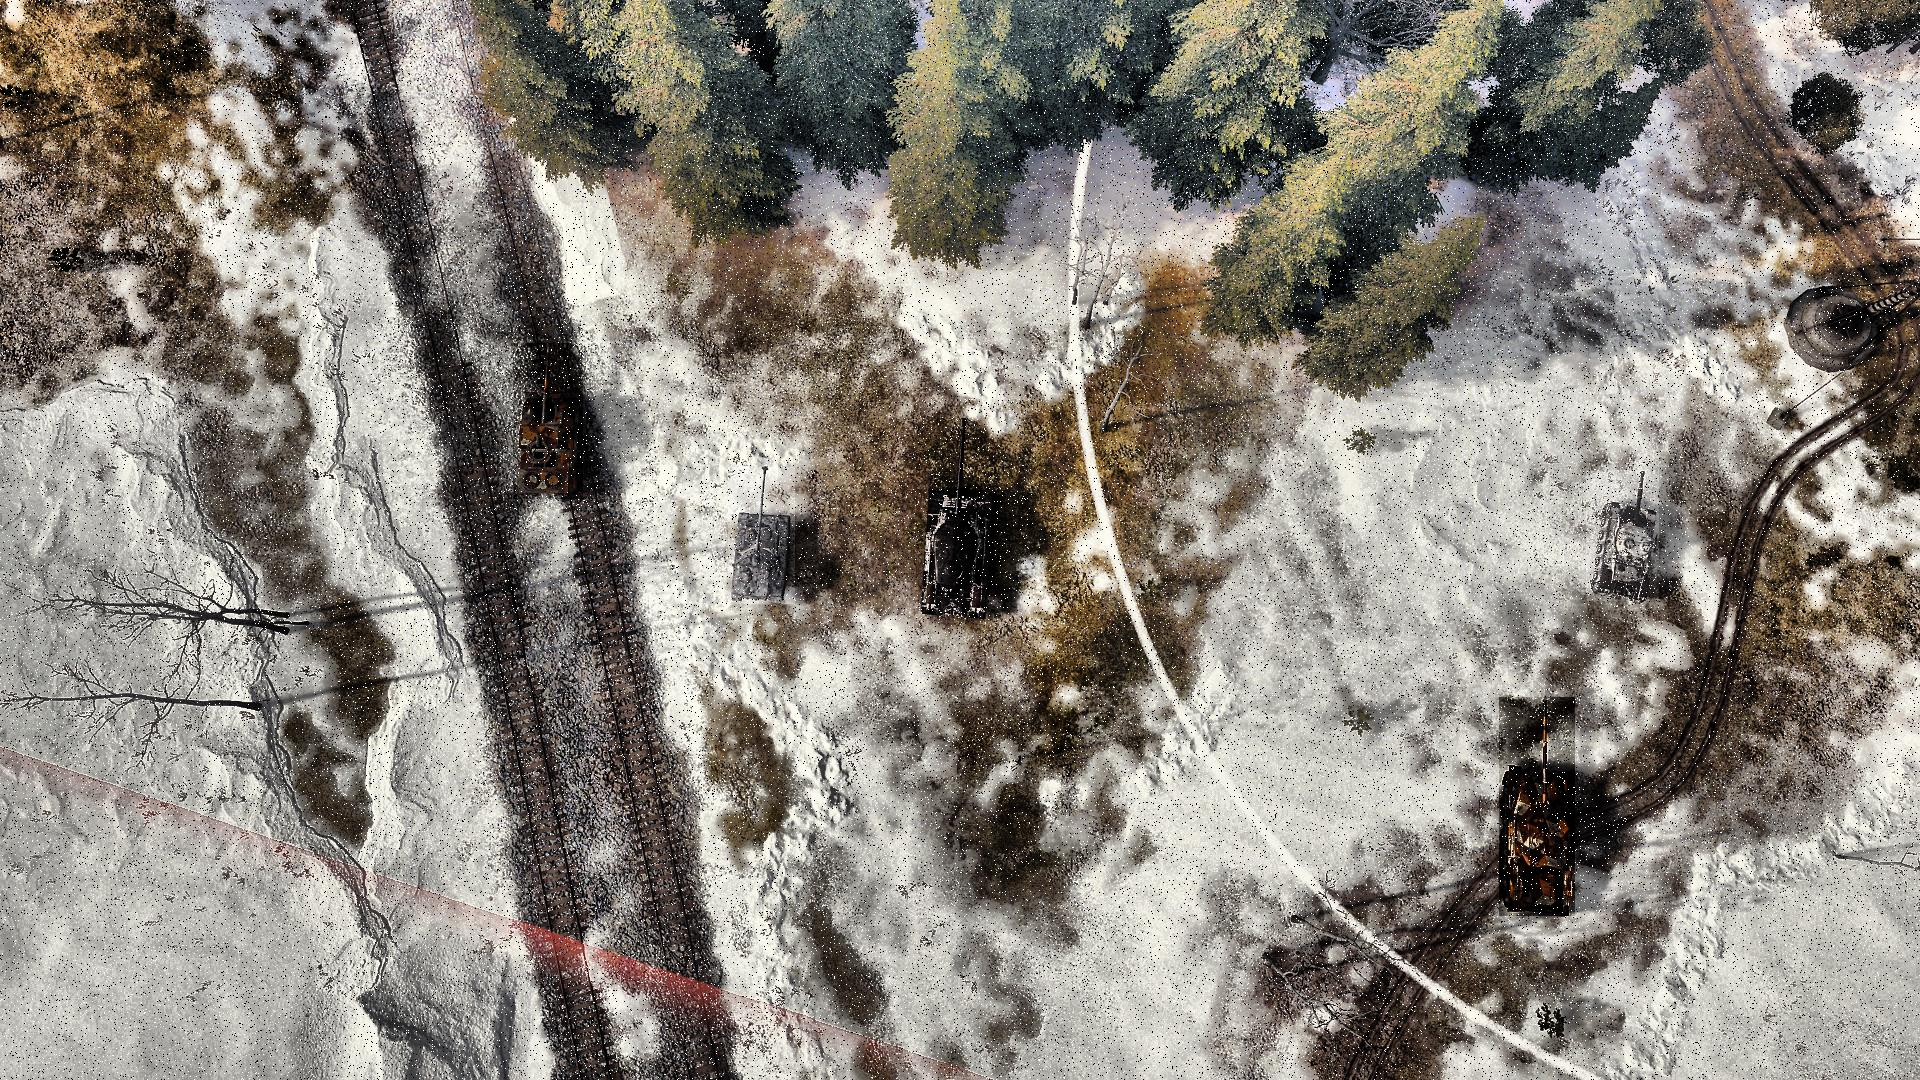military-vehicle: (1499, 698, 1576, 916), (916, 417, 998, 621), (514, 344, 584, 500), (1586, 469, 1659, 601), (729, 467, 796, 604)
